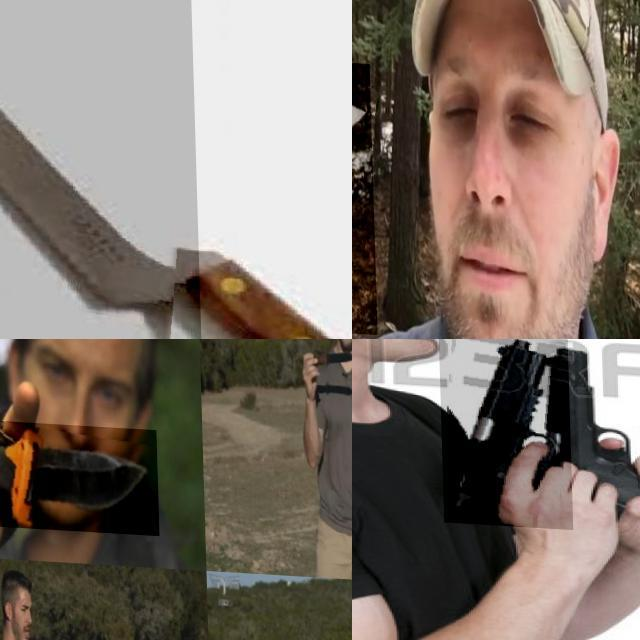-: (0, 0, 199, 339), (352, 45, 516, 330), (0, 415, 157, 533), (297, 339, 352, 379)
gun-knife-thesis - v11 Yolov5 augmented: (436, 339, 570, 524), (539, 339, 640, 533)
